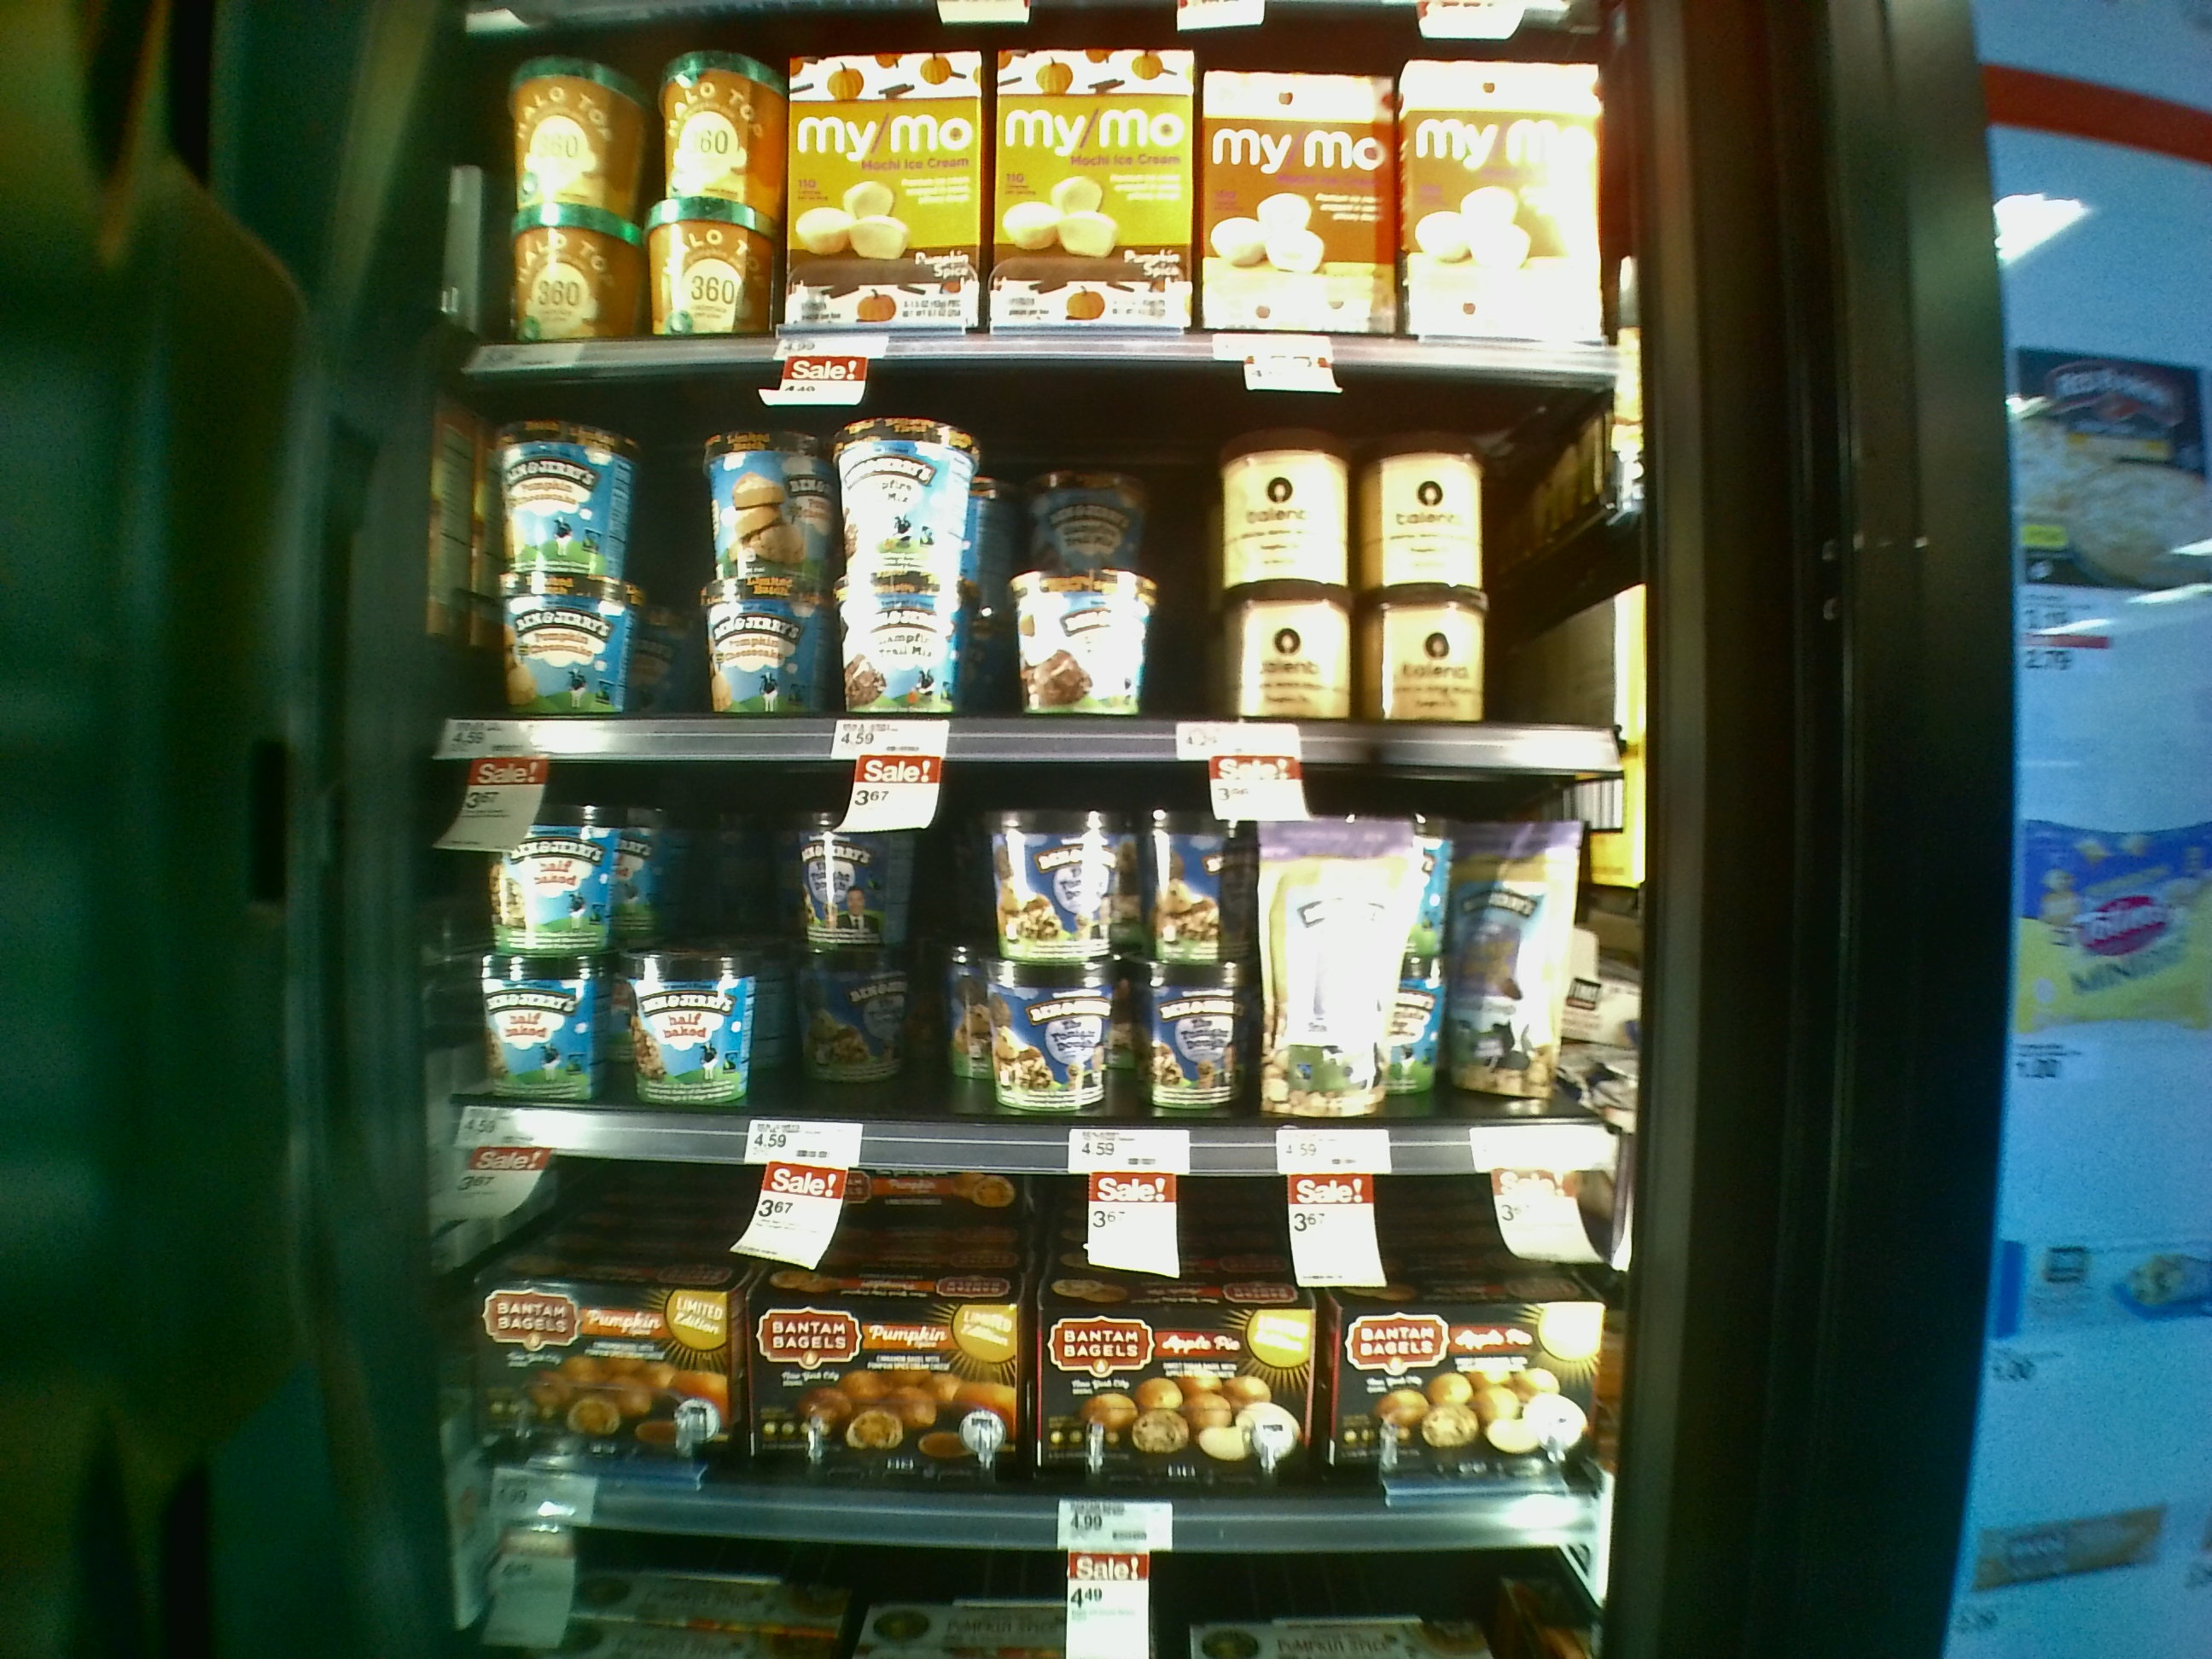shelf: (402, 737, 1649, 1164), (423, 359, 1662, 774), (397, 1145, 1615, 1554)
